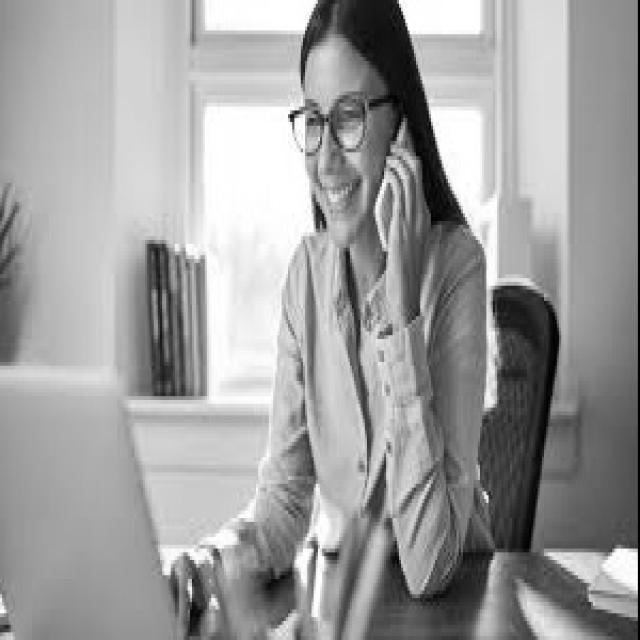phone: (342, 84, 436, 266)
